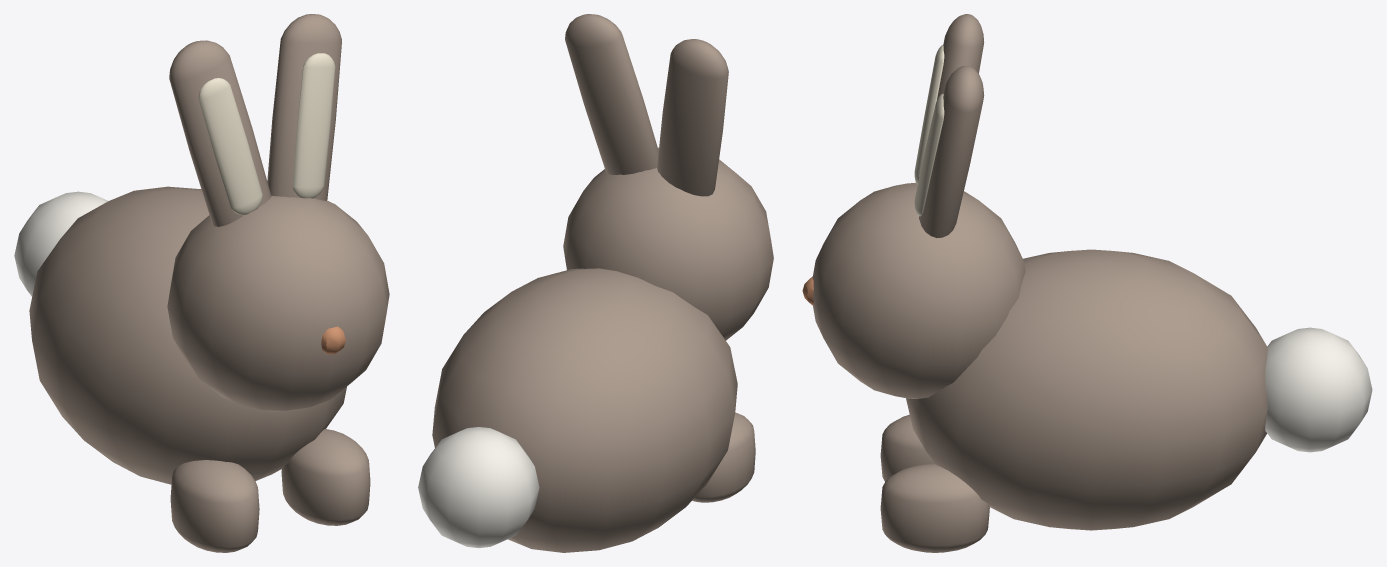
File: rabbit.glb
3 views of the same model, side by side, from view 1: azimuth 30°, elevation 25°; view 2: azimuth 150°, elevation 25°; view 3: azimuth 270°, elevation 25° (orthographic). The views are drawn at different scales.
Visible parts, largest first — view 1: fur_rabbit, cream, sheet, pot; view 2: fur_rabbit, sheet; view 3: fur_rabbit, sheet, cream.
Part boxes in pixels (<box>): fur_rabbit: <box>29,14,389,552</box>; cream: <box>198,53,335,215</box>; sheet: <box>14,191,108,296</box>; pot: <box>321,326,345,354</box>; fur_rabbit: <box>432,14,773,552</box>; sheet: <box>418,427,539,548</box>; fur_rabbit: <box>812,14,1267,552</box>; sheet: <box>1265,327,1372,452</box>; cream: <box>914,45,944,216</box>.
Size of the model in its own units: 0.19 by 0.3381 by 0.365.
